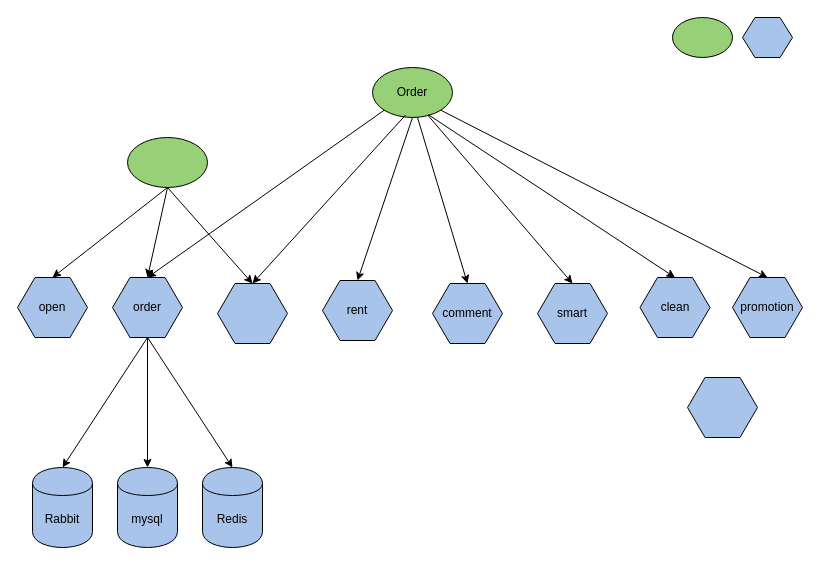
Image size: 820x565. Some labels were removed from this diagram. The box of each missing label's shape, as (x1, y1, x2, y2) in pixels:
dataSync: (126, 136, 208, 188)
insurance: (686, 376, 758, 438)
main: (216, 282, 288, 344)
内部服务: (742, 16, 792, 58)
外部服务: (672, 16, 732, 58)
